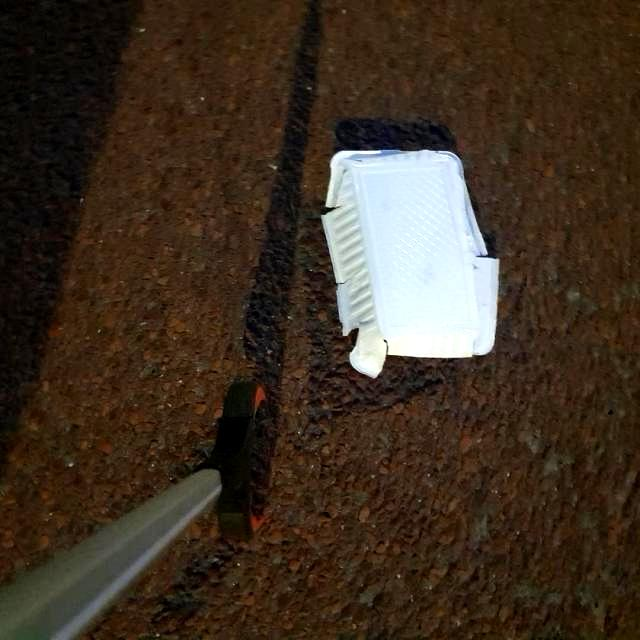Plastic: (317, 144, 503, 382)
